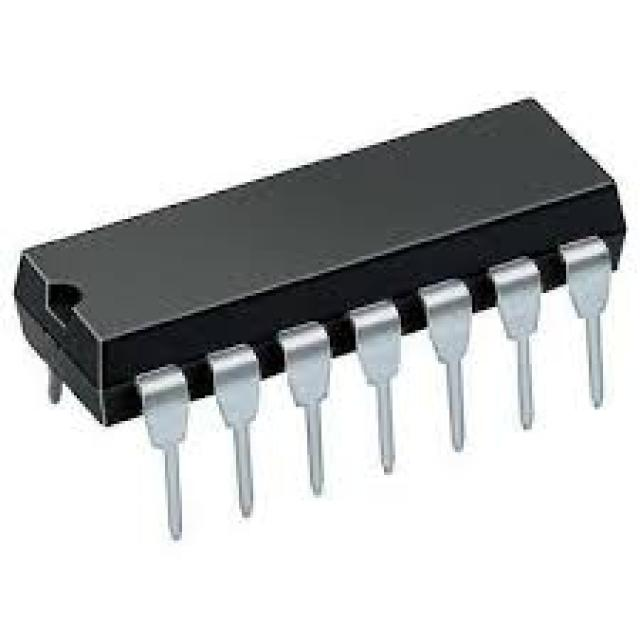IC: (18, 114, 616, 548)
